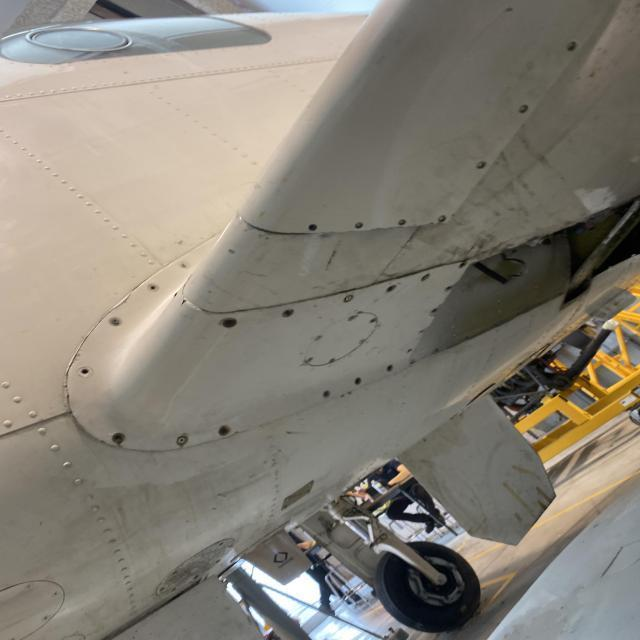Fastener Damage: (78, 366, 94, 379), (566, 40, 578, 54), (223, 317, 237, 329), (111, 432, 125, 444), (217, 425, 231, 437), (516, 104, 530, 114), (474, 160, 488, 170), (436, 213, 448, 224), (396, 218, 410, 227), (352, 222, 366, 230), (306, 224, 318, 233), (420, 273, 432, 282), (282, 309, 294, 317), (386, 284, 396, 292), (148, 284, 158, 291), (386, 364, 394, 372), (323, 390, 331, 398), (353, 378, 363, 384), (445, 285, 453, 292), (458, 262, 466, 268), (431, 308, 438, 314), (406, 348, 414, 353)
Rupture: (180, 298, 190, 310)
